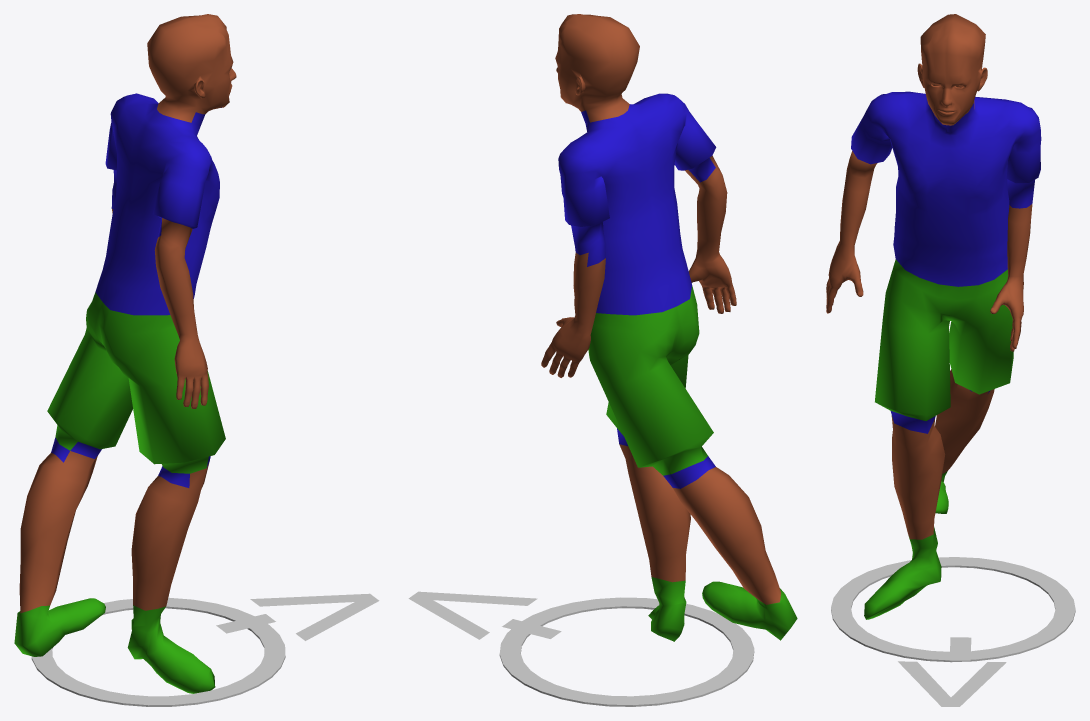
The model's file is playerAI_000034.obj.
3 renders of one model, left to right at view 1: azimuth 30°, elevation 25°; view 2: azimuth 150°, elevation 25°; view 3: azimuth 270°, elevation 25°, orthographic. The views are drawn at different scales.
Parts seen in each view (by area): view 1: soccerplayer.003_mesh.002, Circle.001, Text_Mesh; view 2: soccerplayer.003_mesh.002, Circle.001, Text_Mesh; view 3: soccerplayer.003_mesh.002, Circle.001, Text_Mesh.
Part boxes in pixels (<box>): soccerplayer.003_mesh.002: <box>14,14,236,693</box>; Circle.001: <box>31,597,285,706</box>; Text_Mesh: <box>216,593,379,640</box>; soccerplayer.003_mesh.002: <box>541,14,797,641</box>; Circle.001: <box>499,597,754,706</box>; Text_Mesh: <box>408,591,561,639</box>; soccerplayer.003_mesh.002: <box>826,14,1041,619</box>; Circle.001: <box>831,557,1075,662</box>; Text_Mesh: <box>898,637,1006,706</box>.
Bounding box in the file's own units: 1.81 × 3 × 1.11.
